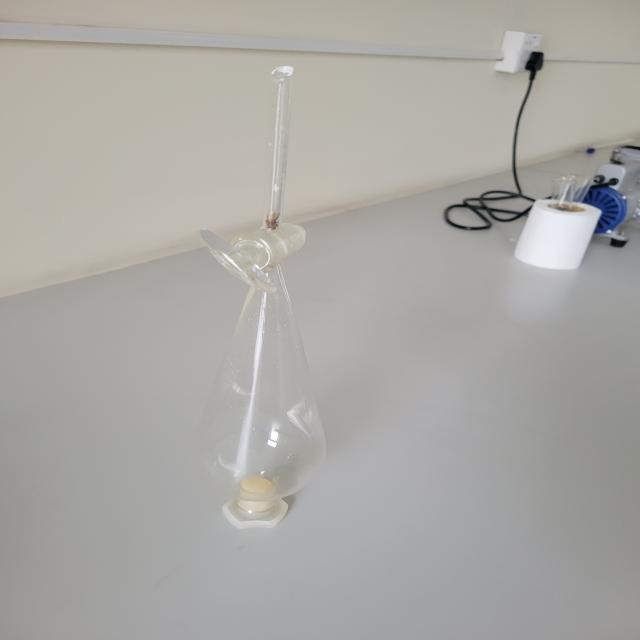Separating_Funnel: (146, 30, 399, 582)
